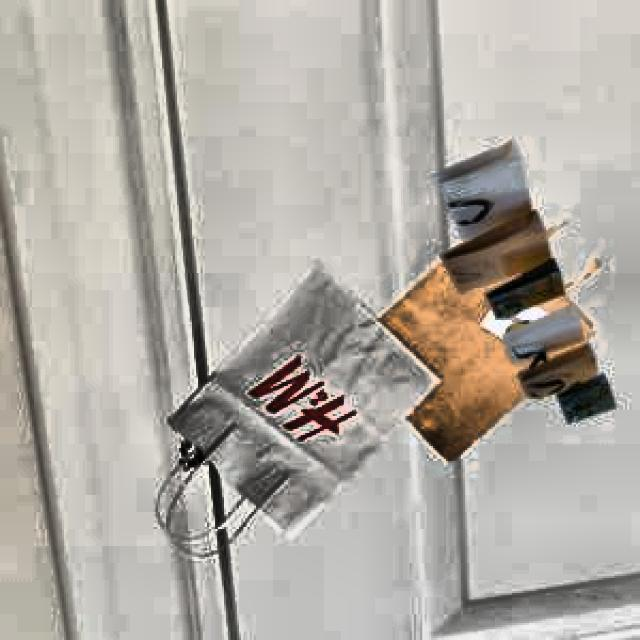Paper-bag: (131, 283, 435, 571), (363, 200, 612, 473)
